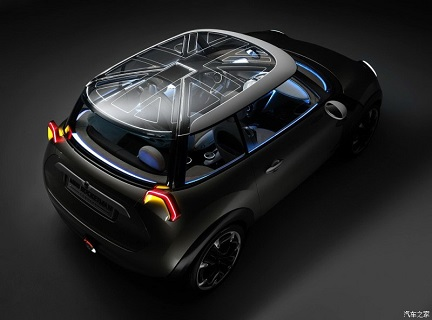MINI-ROCKETMAN: (38, 24, 393, 293)
